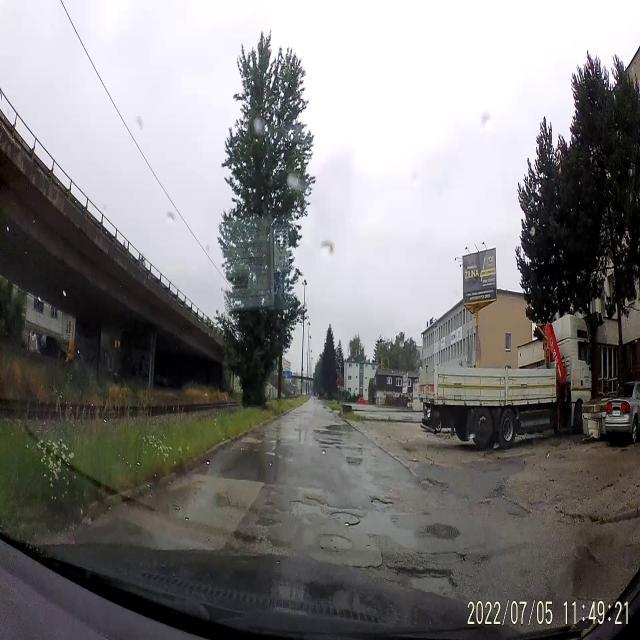Manhole: (316, 530, 356, 558), (424, 516, 460, 545), (327, 506, 368, 530)
Pothole: (388, 566, 460, 598), (288, 486, 326, 516), (362, 489, 396, 512), (460, 550, 490, 566), (256, 515, 280, 529), (344, 453, 362, 467)
